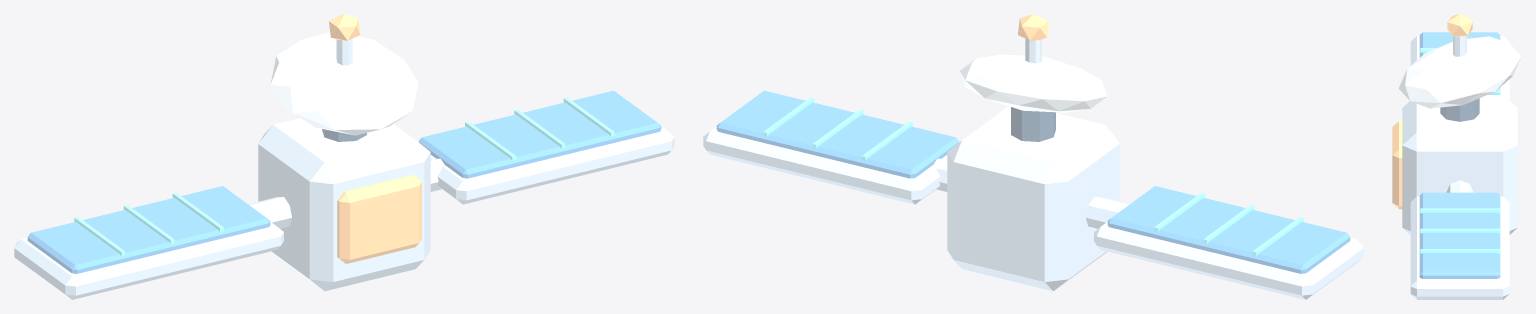
Rendered from orbit-satellite.glb.
3 views of the same model, side by side, from view 1: azimuth 30°, elevation 25°; view 2: azimuth 150°, elevation 25°; view 3: azimuth 270°, elevation 25° (orthographic). The views are drawn at different scales.
Visible parts, largest first — view 1: orbit-satellite; view 2: orbit-satellite; view 3: orbit-satellite.
Boxes of the visible parts, left/top/right/bottom form: orbit-satellite: left=14, top=14, right=674, bottom=299; orbit-satellite: left=703, top=14, right=1363, bottom=299; orbit-satellite: left=1392, top=14, right=1521, bottom=299.
Size of the model in its own units: 2.87 by 1.11 by 0.6254.
